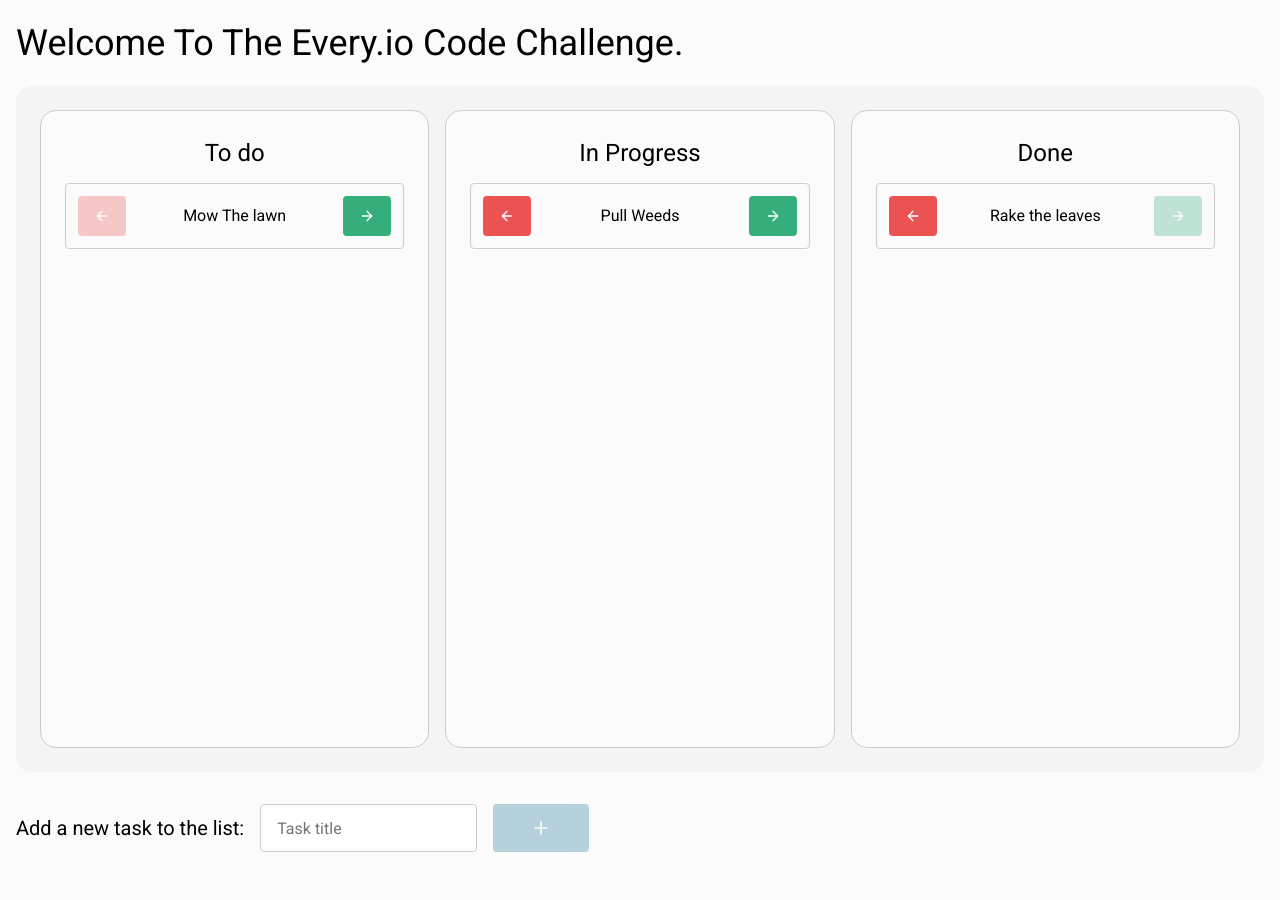
Test: <App/> › should add a new task
Type "this is a new task" into the field with placeholder "Task title" at (369, 828), box 260,804 -> 477,852
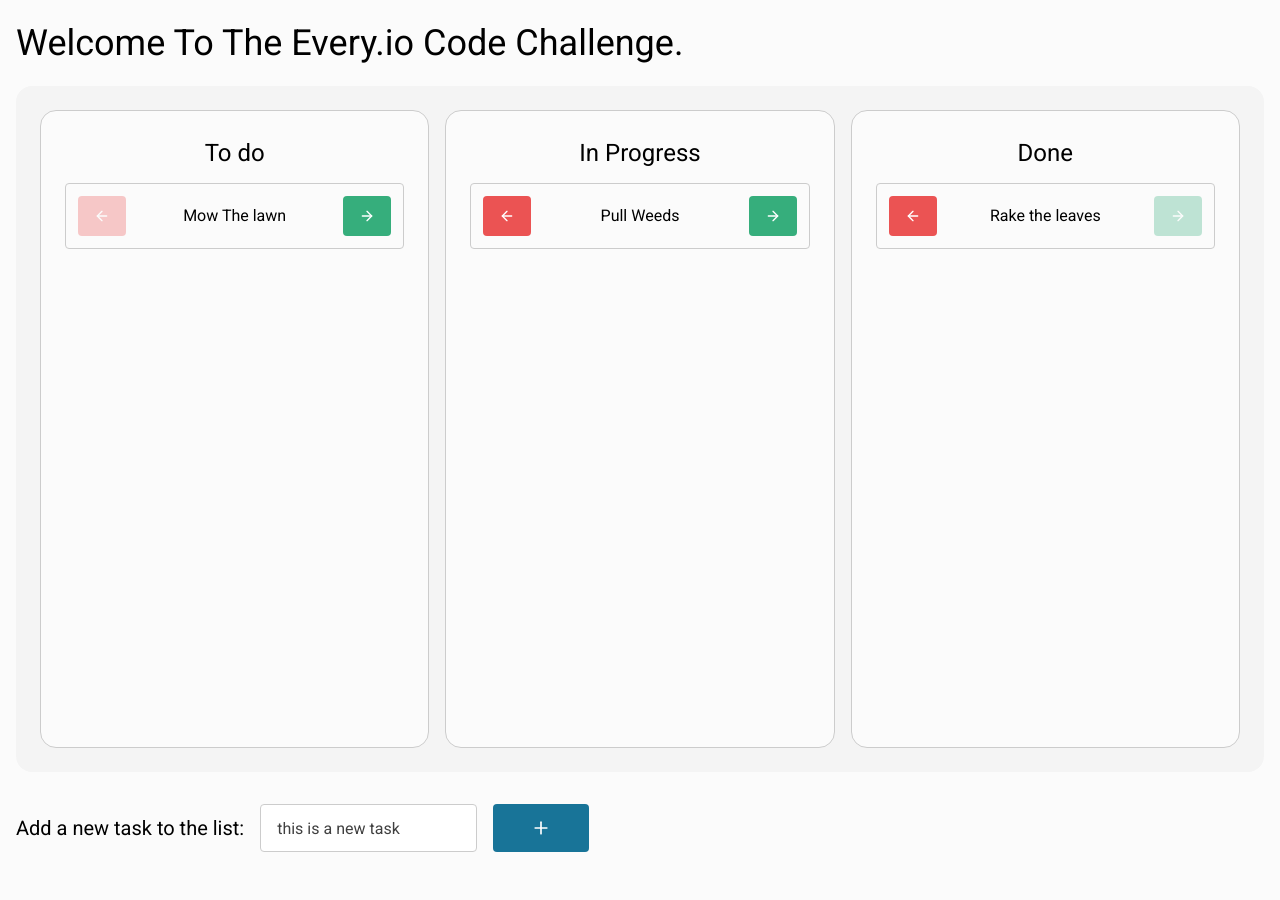
Click the button with test id "addNewBtn" at (541, 828), box 493,804 -> 589,852
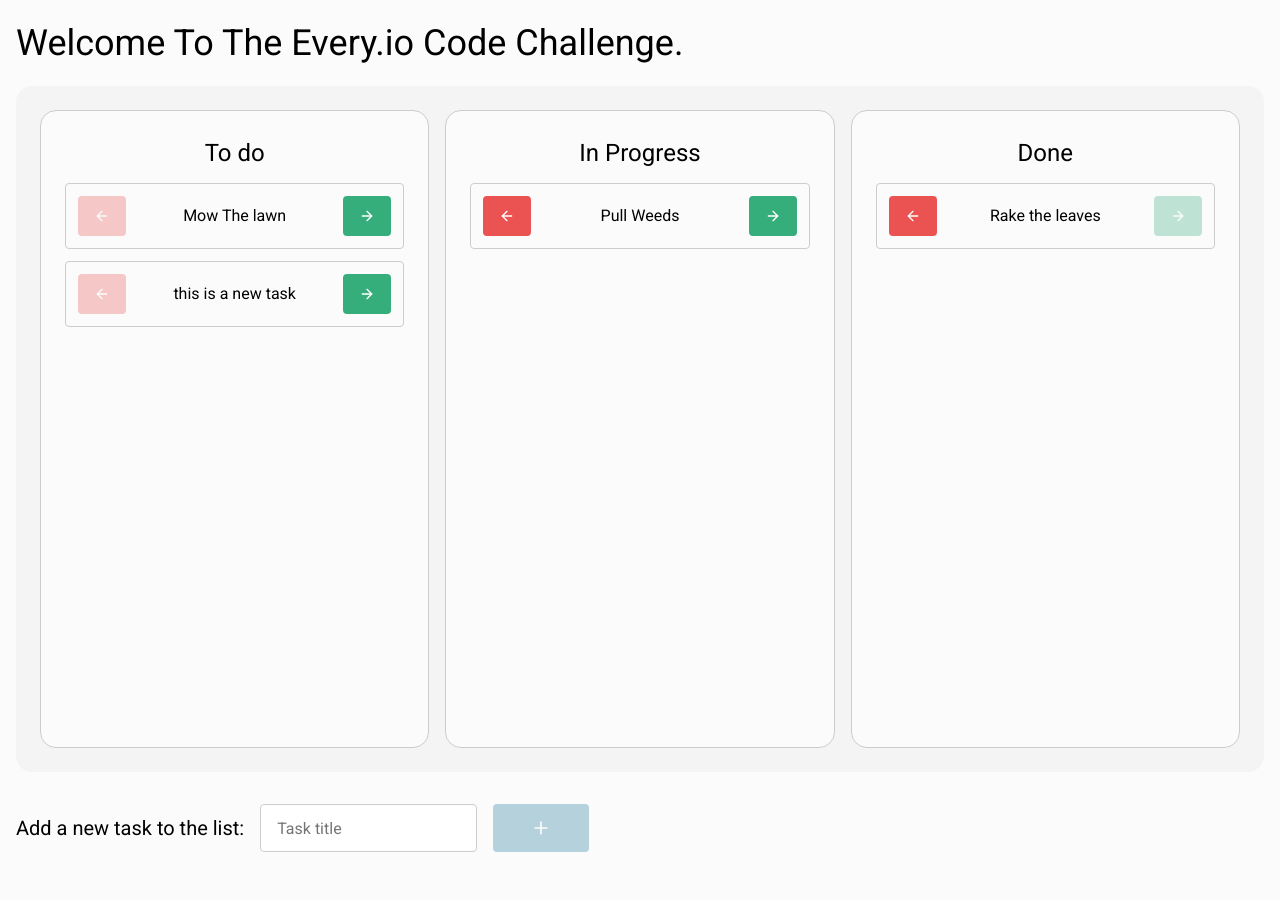
expect the text "this is a new task" is shown: met, box 173,282 -> 296,306
